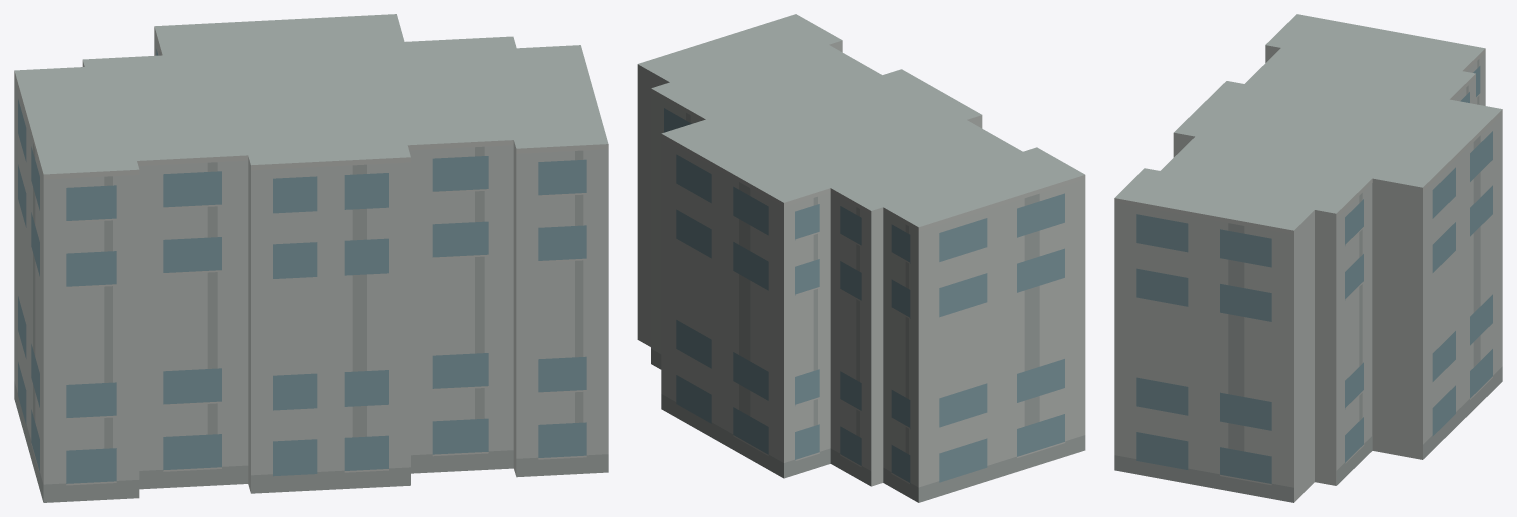
The model's file is residential-27d399fc-02f0-49e3-a320-fd26fa93b1cc.glb.
3 views of the same model, side by side, from view 1: azimuth 30°, elevation 25°; view 2: azimuth 150°, elevation 25°; view 3: azimuth 270°, elevation 25° (orthographic). The views are drawn at different scales.
Parts seen in each view (by area): view 1: residential-27d399fc-02f0-49e3-a320-fd26fa93b1cc.tmp; view 2: residential-27d399fc-02f0-49e3-a320-fd26fa93b1cc.tmp; view 3: residential-27d399fc-02f0-49e3-a320-fd26fa93b1cc.tmp.
Boxes of the visible parts, <box> form: residential-27d399fc-02f0-49e3-a320-fd26fa93b1cc.tmp: <box>14,14,608,502</box>; residential-27d399fc-02f0-49e3-a320-fd26fa93b1cc.tmp: <box>637,14,1085,502</box>; residential-27d399fc-02f0-49e3-a320-fd26fa93b1cc.tmp: <box>1114,14,1502,502</box>.
Bounding box in the file's own units: 26.03 × 15.25 × 19.73.
